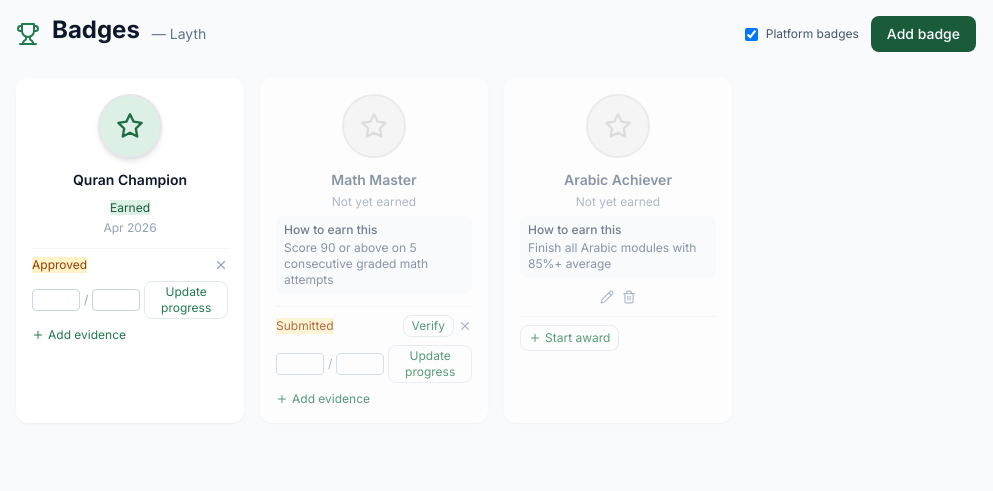
Test: BadgesPage › starts an award on a badge with no award yet
Click the button with test id "start-award-badge_fix_003". click: (570, 338)
box: [520,325,619,351]
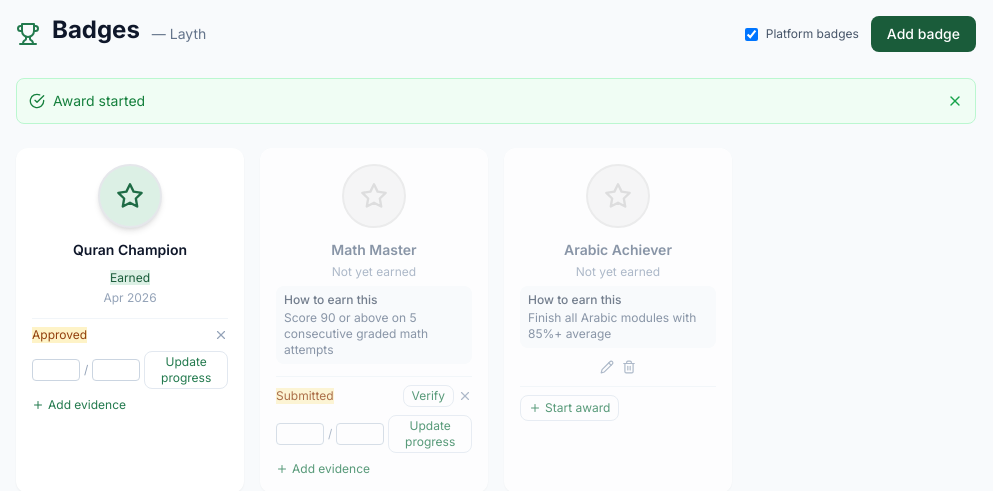
expect the text "Award started" is shown: met, box [53,91,145,111]
